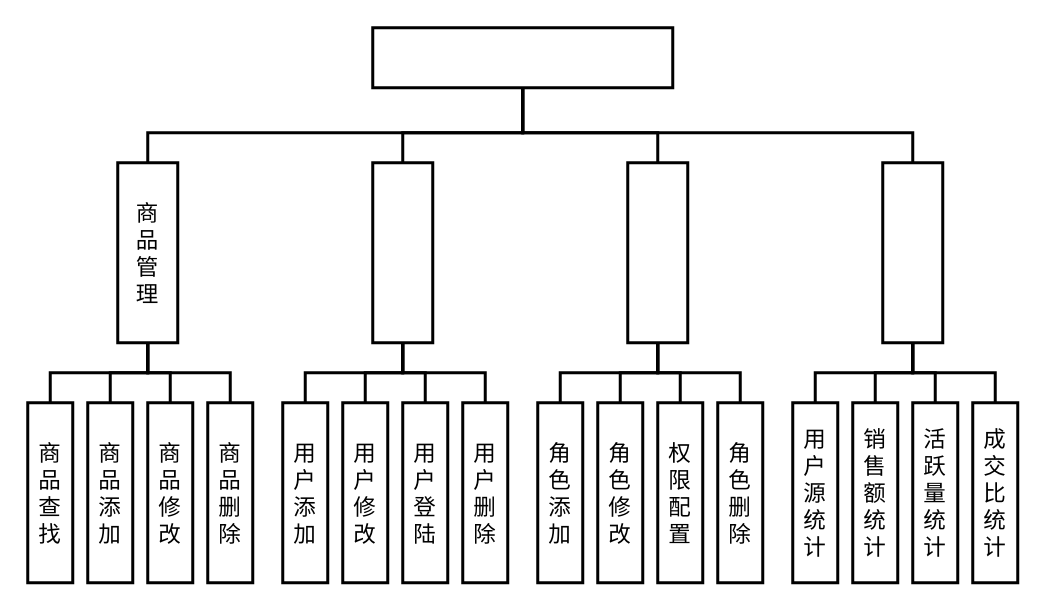
This 1044x609 diagram has some shape labels left out. Here are the shapes that lost their labels. From the top down, the centre of each, then its label:
At pixel 522 57: "商城后台管理系统".
At pixel 402 252: "用 户 管 理".
At pixel 657 252: "权 限 管 理".
At pixel 912 252: "统 计 管 理".
